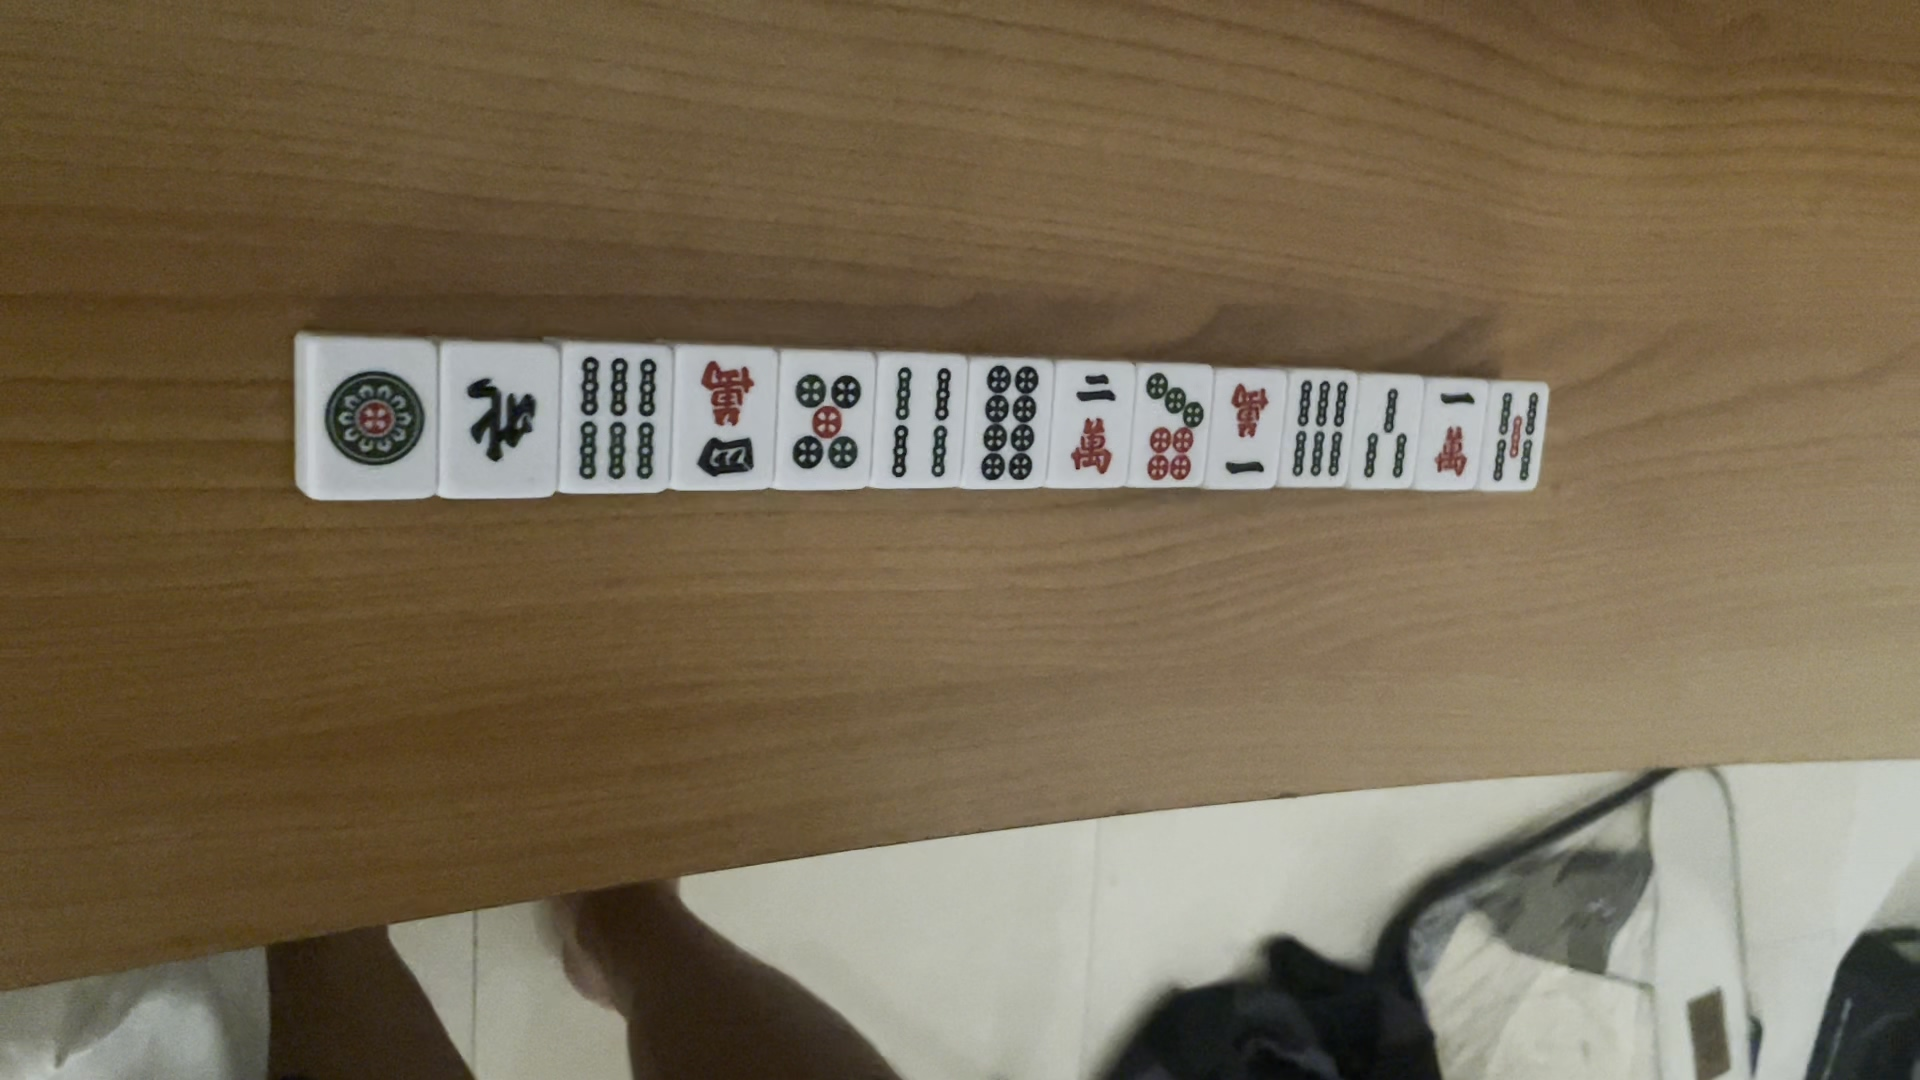b-3: (1361, 382, 1410, 483)
b-4: (889, 363, 957, 483)
b-5: (1493, 380, 1542, 489)
b-6: (571, 349, 661, 489), (1287, 373, 1352, 483)
c-1: (1222, 377, 1269, 477), (1432, 380, 1477, 480)
c-2: (1071, 369, 1120, 473)
c-4: (687, 353, 761, 480)
d-1: (315, 367, 433, 475)
d-5: (786, 373, 865, 475)
d-7: (1145, 369, 1207, 483)
d-8: (976, 367, 1039, 480)
honors-north: (454, 373, 547, 469)
